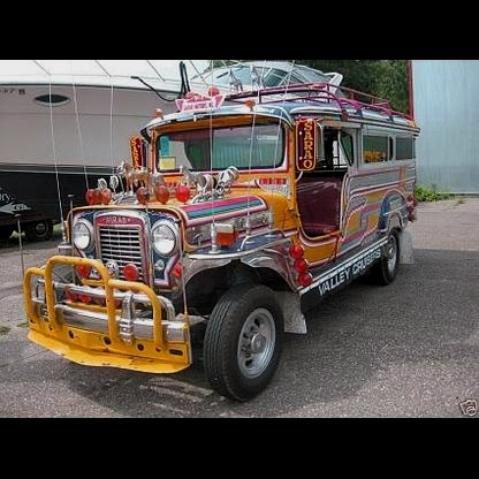jeepney: (19, 86, 429, 407)
